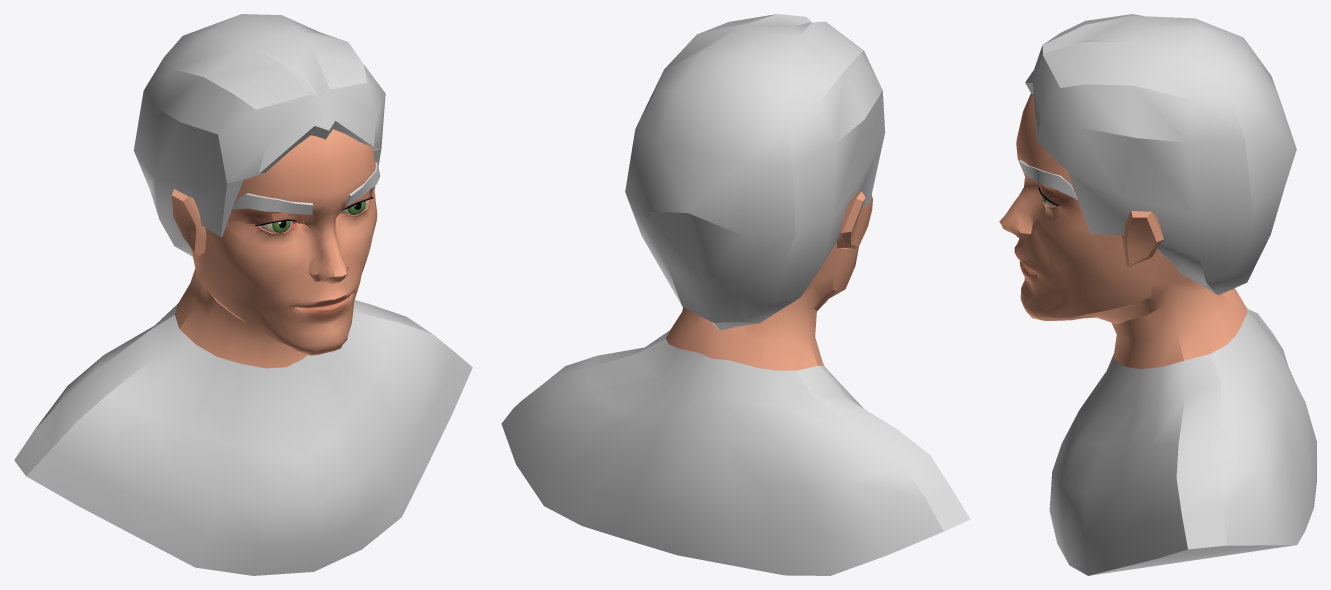
The model's file is Male_Avatar_1_New.fbx.
3 renders of one model, left to right at view 1: azimuth 30°, elevation 25°; view 2: azimuth 150°, elevation 25°; view 3: azimuth 270°, elevation 25°, orthographic. The views are drawn at different scales.
Parts seen in each view (by area): view 1: Shirt.002, Hair.002, Male Head; view 2: Shirt.002, Hair.002, Male Head; view 3: Hair.002, Shirt.002, Male Head.
Part boxes in pixels (x1,y1,x2,y2): Shirt.002: (14,300,472,575); Hair.002: (133,14,385,256); Male Head: (171,129,377,368); Shirt.002: (501,330,970,575); Hair.002: (625,14,885,330); Male Head: (666,191,872,370); Hair.002: (1019,14,1296,294); Shirt.002: (1049,305,1316,575); Male Head: (999,93,1247,368).
Bounding box in the file's own units: 48.62 × 52.66 × 29.47.
1 material, 1 textured.
